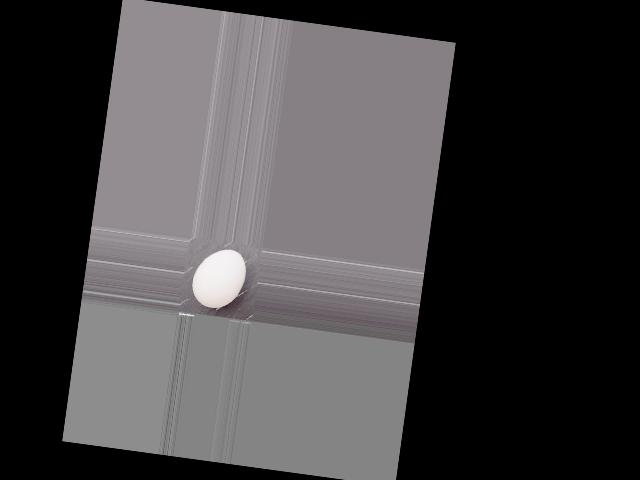egg: (189, 245, 248, 311)
